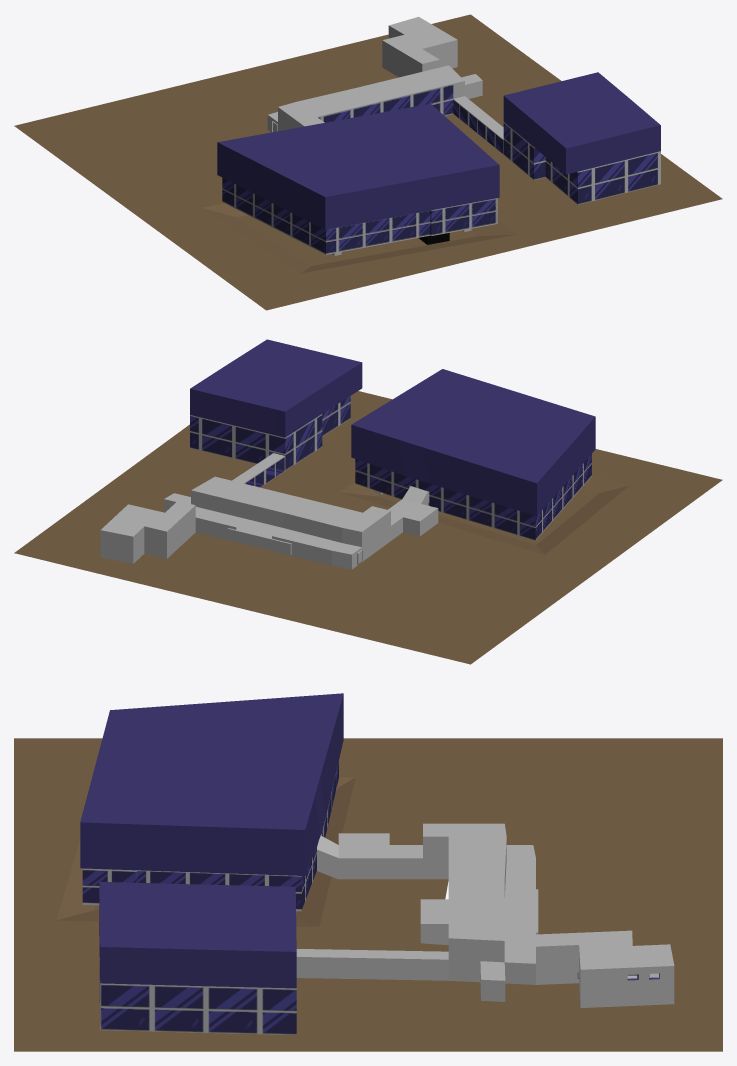
Rendered from Hanway(AF).fbx.
3 views of the same model, one above another, from view 1: azimuth 30°, elevation 25°; view 2: azimuth 150°, elevation 25°; view 3: azimuth 270°, elevation 25° (orthographic). The views are drawn at different scales.
Visible parts, largest first — view 1: Grond, GebouwBuiten; view 2: Grond, GebouwBuiten, GebouwBinnen; view 3: Grond, GebouwBuiten.
Boxes of the visible parts, left/top/right/bottom form: Grond: left=14, top=14, right=722, bottom=310; GebouwBuiten: left=217, top=16, right=660, bottom=255; Grond: left=14, top=391, right=722, bottom=664; GebouwBuiten: left=100, top=339, right=595, bottom=569; GebouwBinnen: left=227, top=485, right=429, bottom=564; Grond: left=14, top=738, right=722, bottom=1051; GebouwBuiten: left=80, top=693, right=674, bottom=1034.
Bounding box in the file's own units: 10568 × 1726 × 10110.
Materials: 6 (2 with a texture image).
